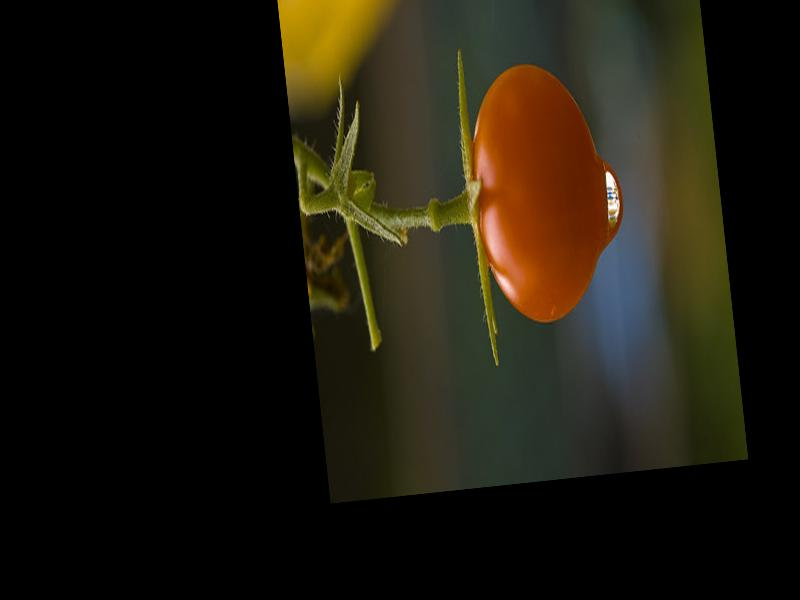Tomato: (461, 59, 615, 331)
